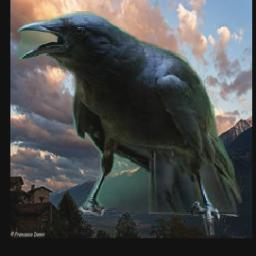Crow: (17, 11, 242, 235)
